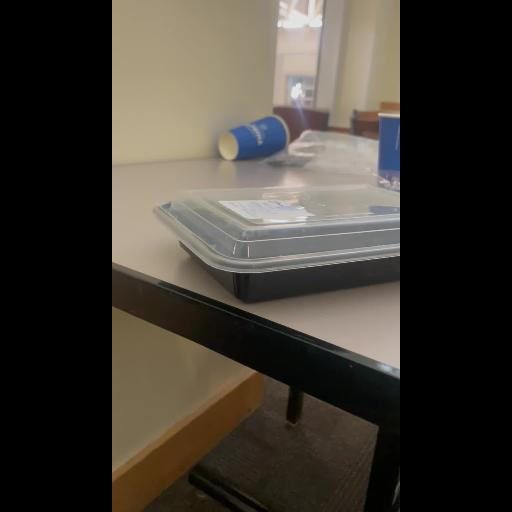rigid_plastic_container: (138, 180, 400, 302)
